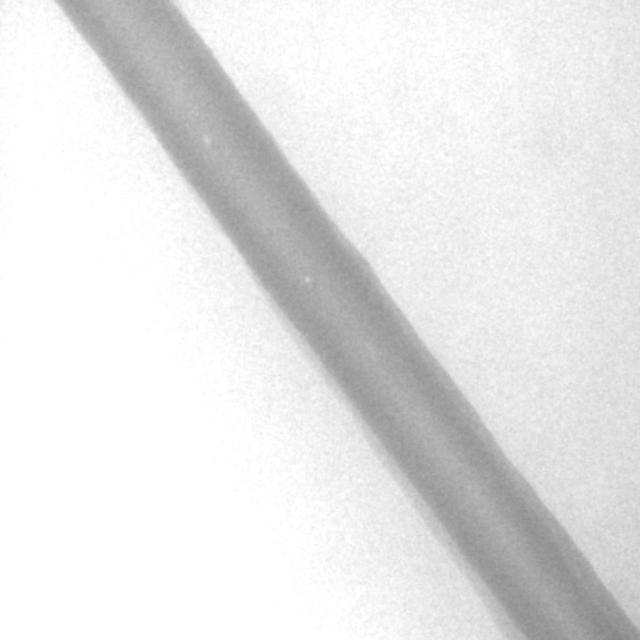air-hole: (202, 132, 210, 142), (305, 273, 311, 281)
